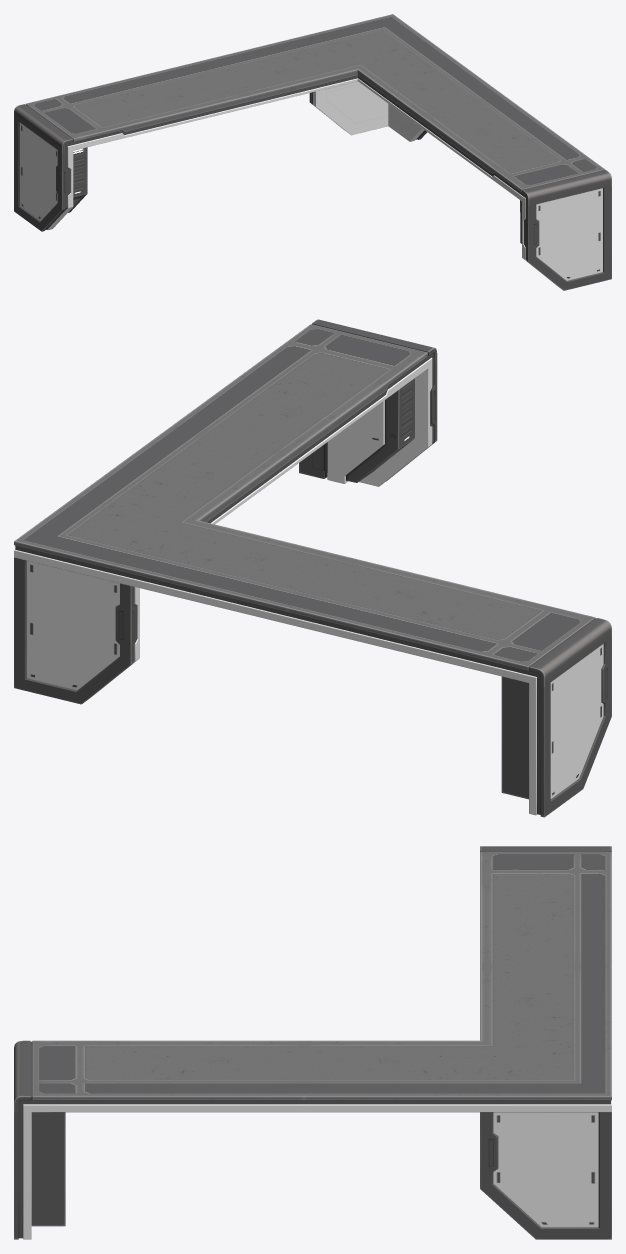
Rendered from RepairTable01_2.FBX.
3 views of the same model, one above another, from view 1: azimuth 30°, elevation 25°; view 2: azimuth 150°, elevation 25°; view 3: azimuth 270°, elevation 25° (orthographic). The views are drawn at different scales.
Parts seen in each view (by area): view 1: RepairTable01_2; view 2: RepairTable01_2; view 3: RepairTable01_2.
Part boxes in pixels (x1,y1,x2,y2): RepairTable01_2: [14, 14, 611, 290]; RepairTable01_2: [14, 319, 611, 817]; RepairTable01_2: [14, 846, 611, 1239].
Size of what is drawn, in the model's own units: 3.4 by 0.9 by 3.4.
